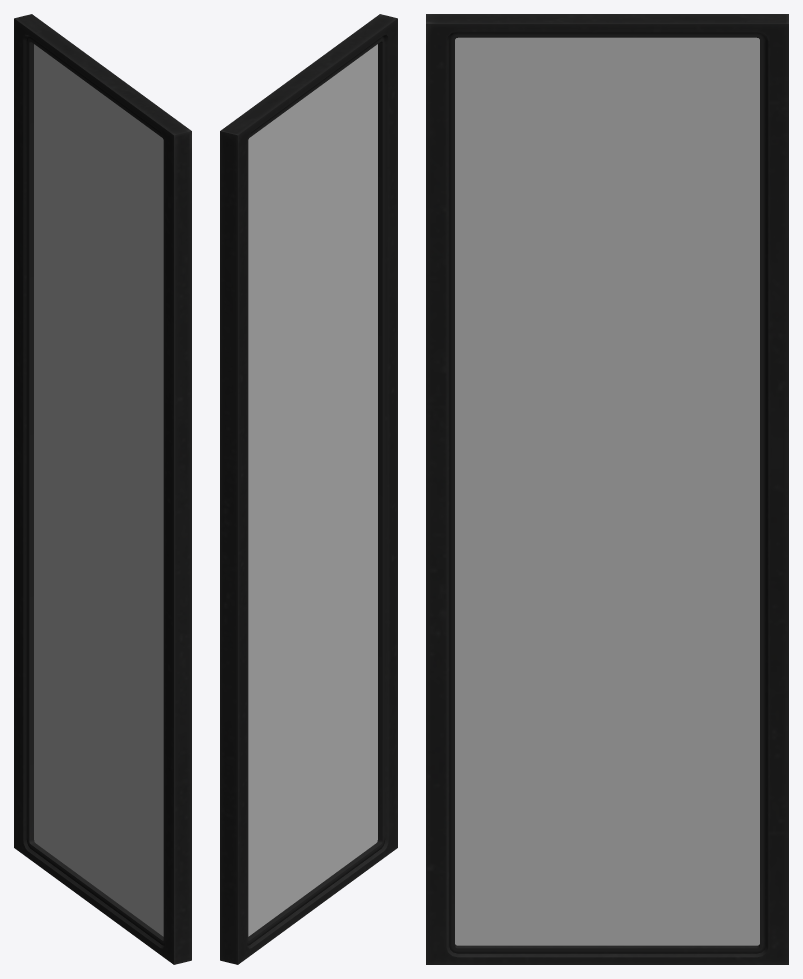
The model's file is SM_Freezer_3_RightDoor.fbx.
The picture shows the model from 3 angles, left to right: view 1: azimuth 30°, elevation 25°; view 2: azimuth 150°, elevation 25°; view 3: azimuth 270°, elevation 25°; orthographic projection. The views are drawn at different scales.
Visible parts, largest first — view 1: SM_Freezer_3_RightDoor_LOD0; view 2: SM_Freezer_3_RightDoor_LOD0; view 3: SM_Freezer_3_RightDoor_LOD0.
Part boxes in pixels (bbox=[...]): SM_Freezer_3_RightDoor_LOD0: bbox=[14, 14, 191, 964]; SM_Freezer_3_RightDoor_LOD0: bbox=[220, 14, 397, 964]; SM_Freezer_3_RightDoor_LOD0: bbox=[426, 14, 788, 964].
Bounding box in the file's own units: 4.44 × 69 × 198.
